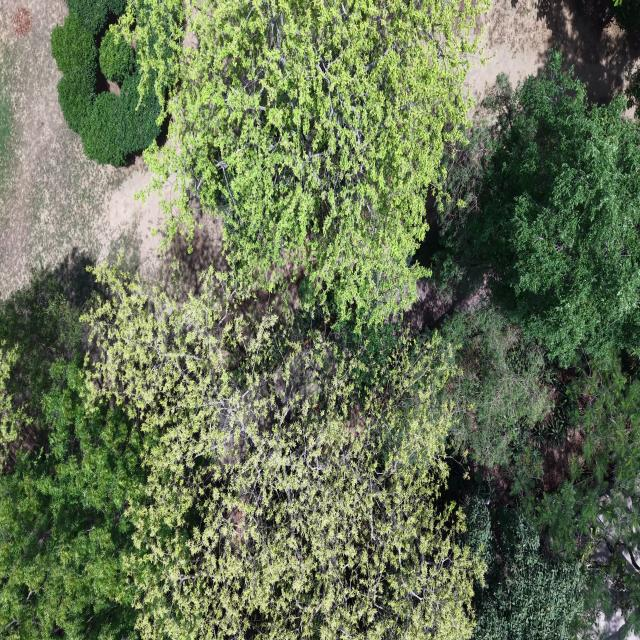DRY_AREA: (0, 0, 160, 298), (0, 0, 160, 297), (467, 0, 639, 103), (468, 0, 639, 102)
VEGETATION_TREE: (0, 0, 639, 639), (0, 270, 637, 639), (0, 269, 483, 639), (92, 271, 482, 639), (435, 53, 639, 628), (125, 0, 486, 321), (443, 312, 639, 638), (446, 52, 639, 365), (0, 273, 143, 639), (464, 362, 639, 638), (0, 363, 140, 639), (536, 361, 639, 623), (541, 362, 639, 550), (431, 74, 513, 295), (52, 0, 160, 165), (442, 307, 552, 467), (467, 495, 588, 639), (0, 273, 82, 454), (118, 0, 197, 117), (82, 75, 158, 165), (51, 13, 97, 132), (51, 13, 97, 84), (119, 74, 159, 152), (83, 92, 125, 165), (576, 0, 639, 45), (581, 0, 639, 47), (58, 71, 95, 133), (67, 0, 126, 36), (100, 30, 135, 83), (0, 95, 14, 192), (613, 0, 639, 42), (612, 0, 639, 37), (626, 70, 639, 107)
